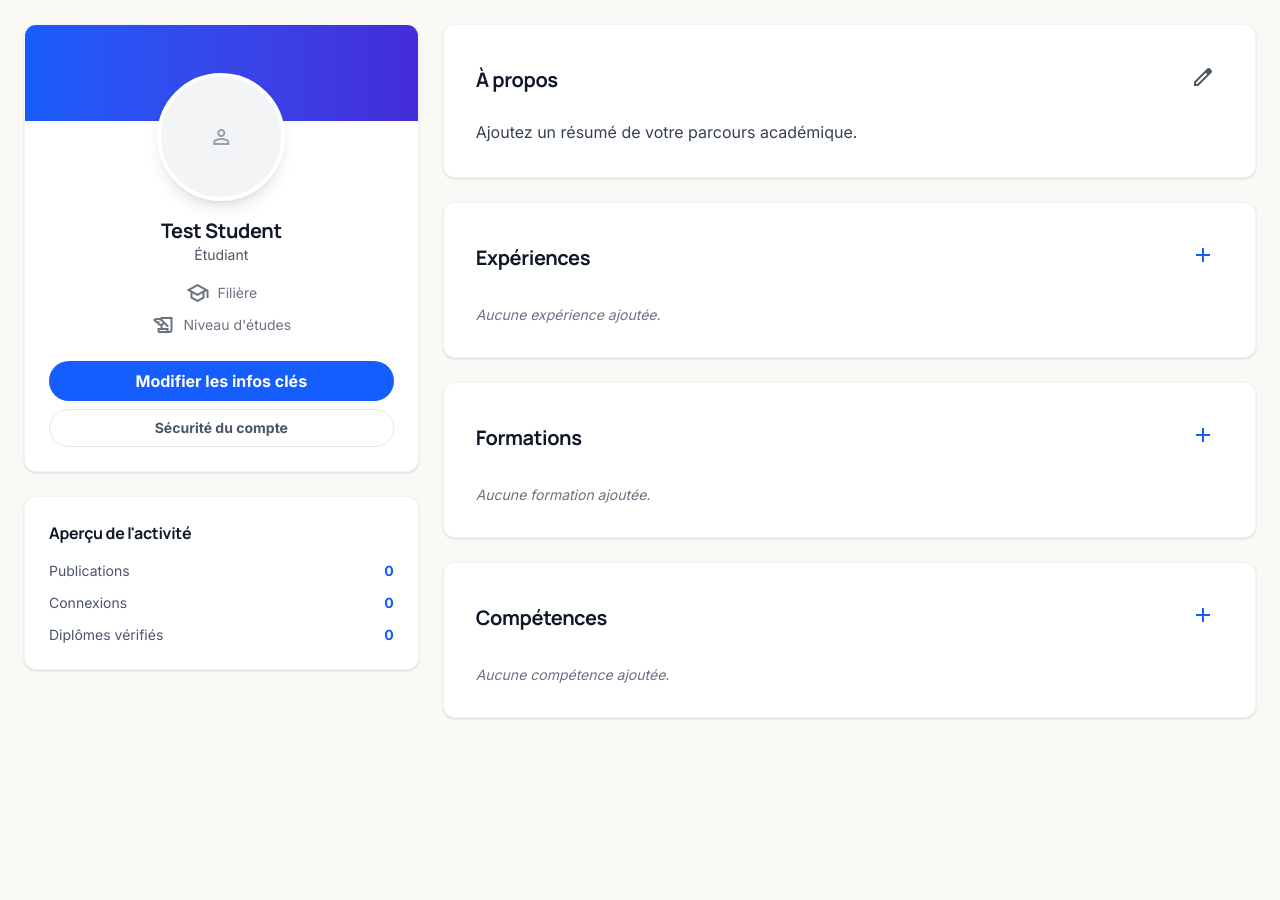
EtudiantProfil › affiche le modal de modification du profil
Click the button "Modifier les infos clés" at (221, 381), box [49,361,394,401]
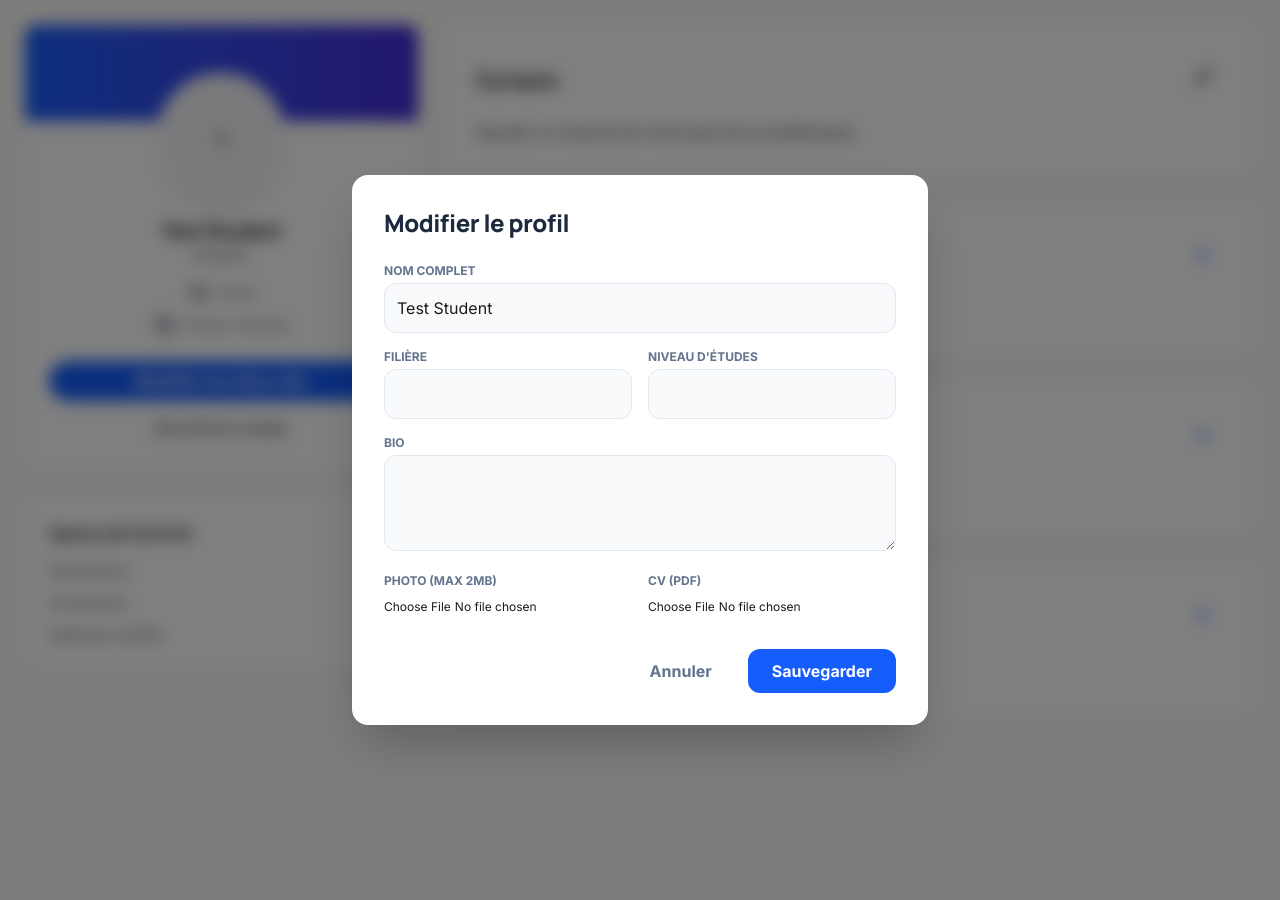
Expected: the heading "Modifier le profil" is shown, [384,206,569,239]
